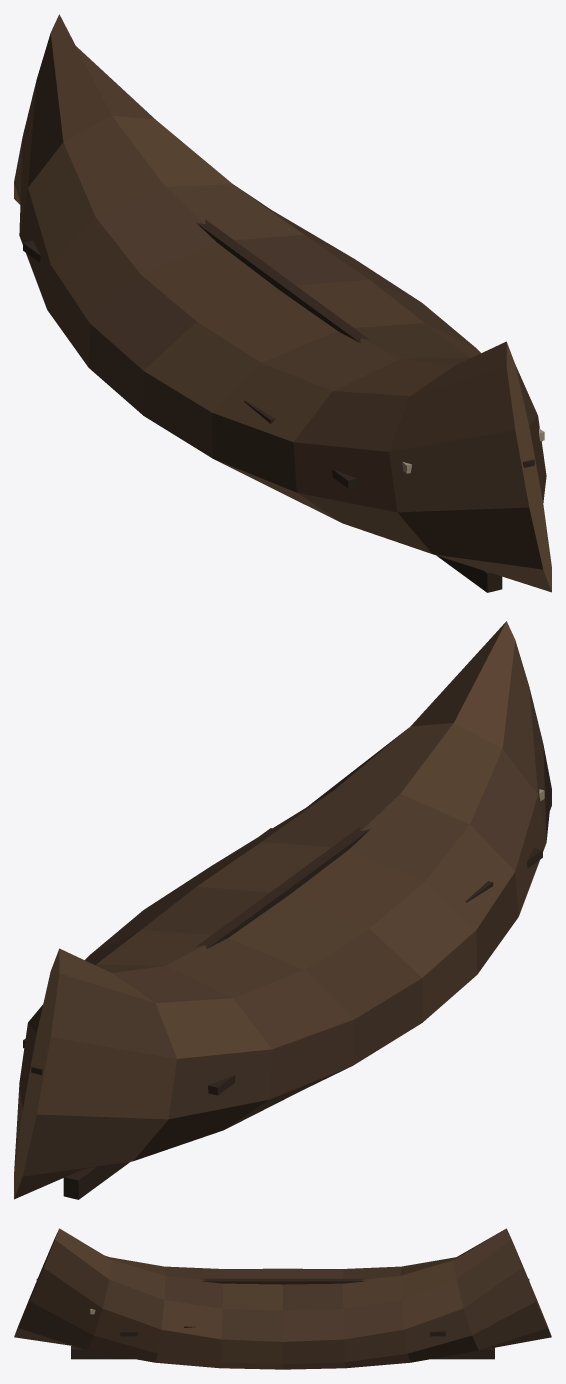
Rendered from walk_prop_boat.glb.
3 renders of one model, top to bottom at view 1: azimuth 30°, elevation 25°; view 2: azimuth 150°, elevation 25°; view 3: azimuth 270°, elevation 25°, orthographic. The views are drawn at different scales.
Parts seen in each view (by area): view 1: walk_prop_boat; view 2: walk_prop_boat; view 3: walk_prop_boat.
Boxes of the visible parts, x1,y1,x2,y2 form: walk_prop_boat: (14,14,551,592); walk_prop_boat: (14,621,551,1199); walk_prop_boat: (14,1228,551,1369).
Size of the model in its own units: 1.5 by 1.33 by 5.02.
Materials: 1 (1 with a texture image).
